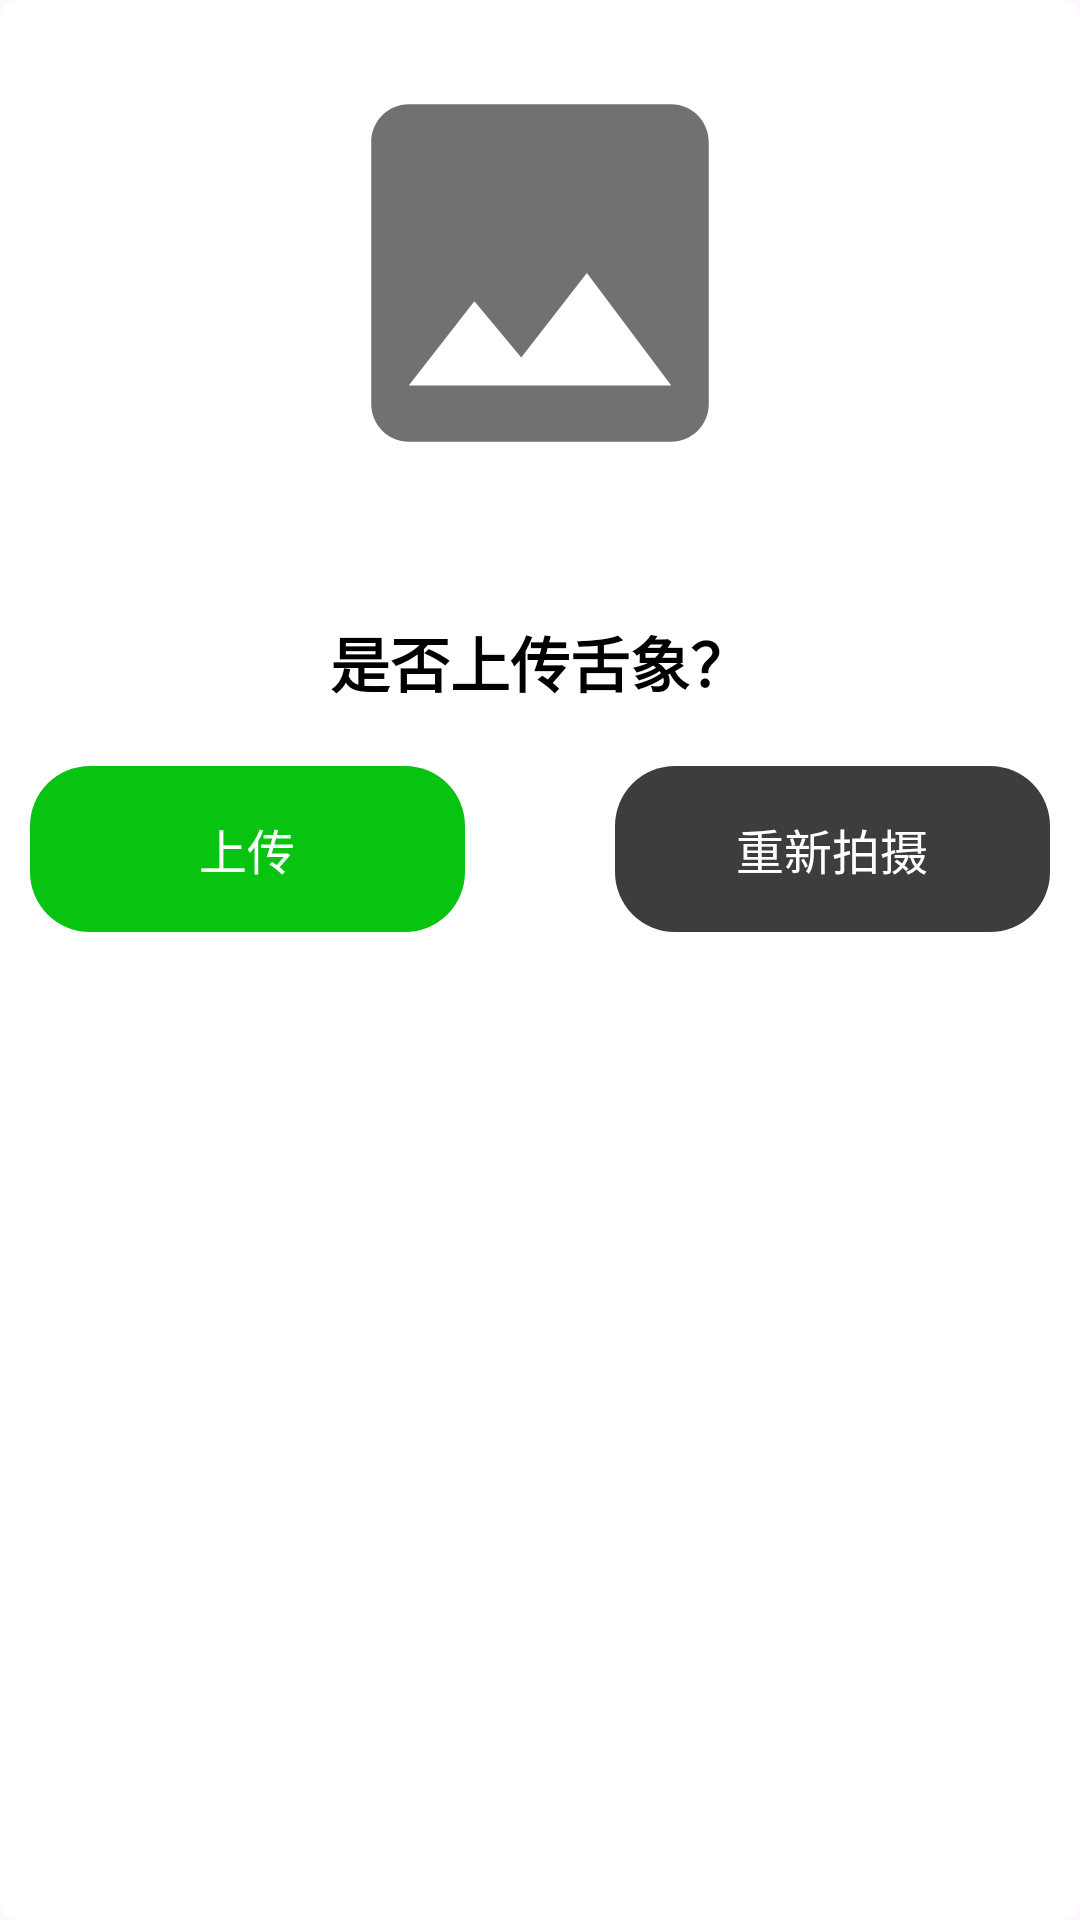

Screen size 1080 x 1920. Icon name, then its center in pixels as (x,y):
photo: (540,273)
